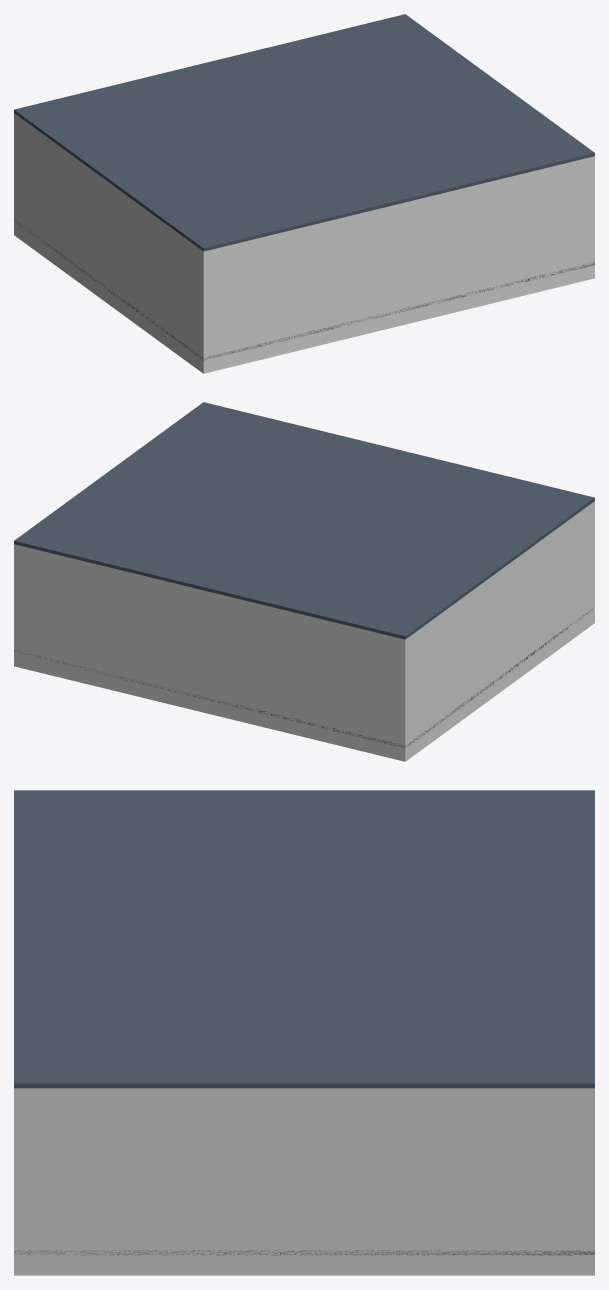
File: ControlRoom.fbx
3 renders of one model, top to bottom at view 1: azimuth 30°, elevation 25°; view 2: azimuth 150°, elevation 25°; view 3: azimuth 270°, elevation 25°, orthographic. The views are drawn at different scales.
Parts seen in each view (by area): view 1: Ceiling, COL_Wall_South, COL_Wall_West, COL_Floor, Floor; view 2: Ceiling, COL_Wall_North, COL_Wall_West, COL_Floor, Floor; view 3: Ceiling, COL_Wall_East, COL_Floor, COL_Wall_North, COL_Wall_South, Floor.
Part boxes in pixels (x1,y1,x2,y2): Ceiling: [14, 14, 594, 251]; COL_Wall_South: [200, 156, 594, 357]; COL_Wall_West: [17, 116, 199, 354]; COL_Floor: [14, 219, 594, 373]; Floor: [14, 219, 594, 360]; Ceiling: [14, 402, 594, 639]; COL_Wall_North: [14, 544, 408, 745]; COL_Wall_West: [409, 504, 591, 742]; COL_Floor: [14, 607, 594, 761]; Floor: [14, 608, 592, 748]; Ceiling: [14, 790, 594, 1088]; COL_Wall_East: [25, 1088, 583, 1250]; COL_Floor: [14, 1250, 594, 1275]; COL_Wall_North: [583, 1088, 594, 1250]; COL_Wall_South: [14, 1088, 25, 1250]; Floor: [14, 1250, 594, 1255].
Size of the model in its own units: 12.4 by 3.8 by 10.4.
